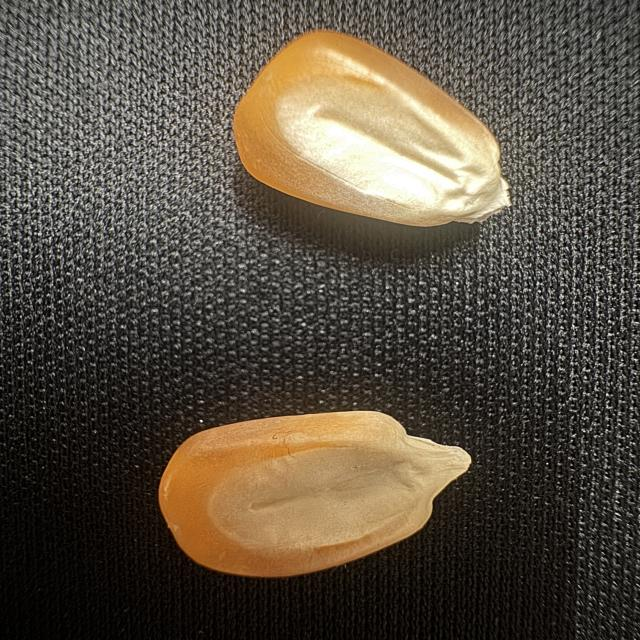Good-Seed: (225, 26, 519, 232), (153, 402, 472, 584)
